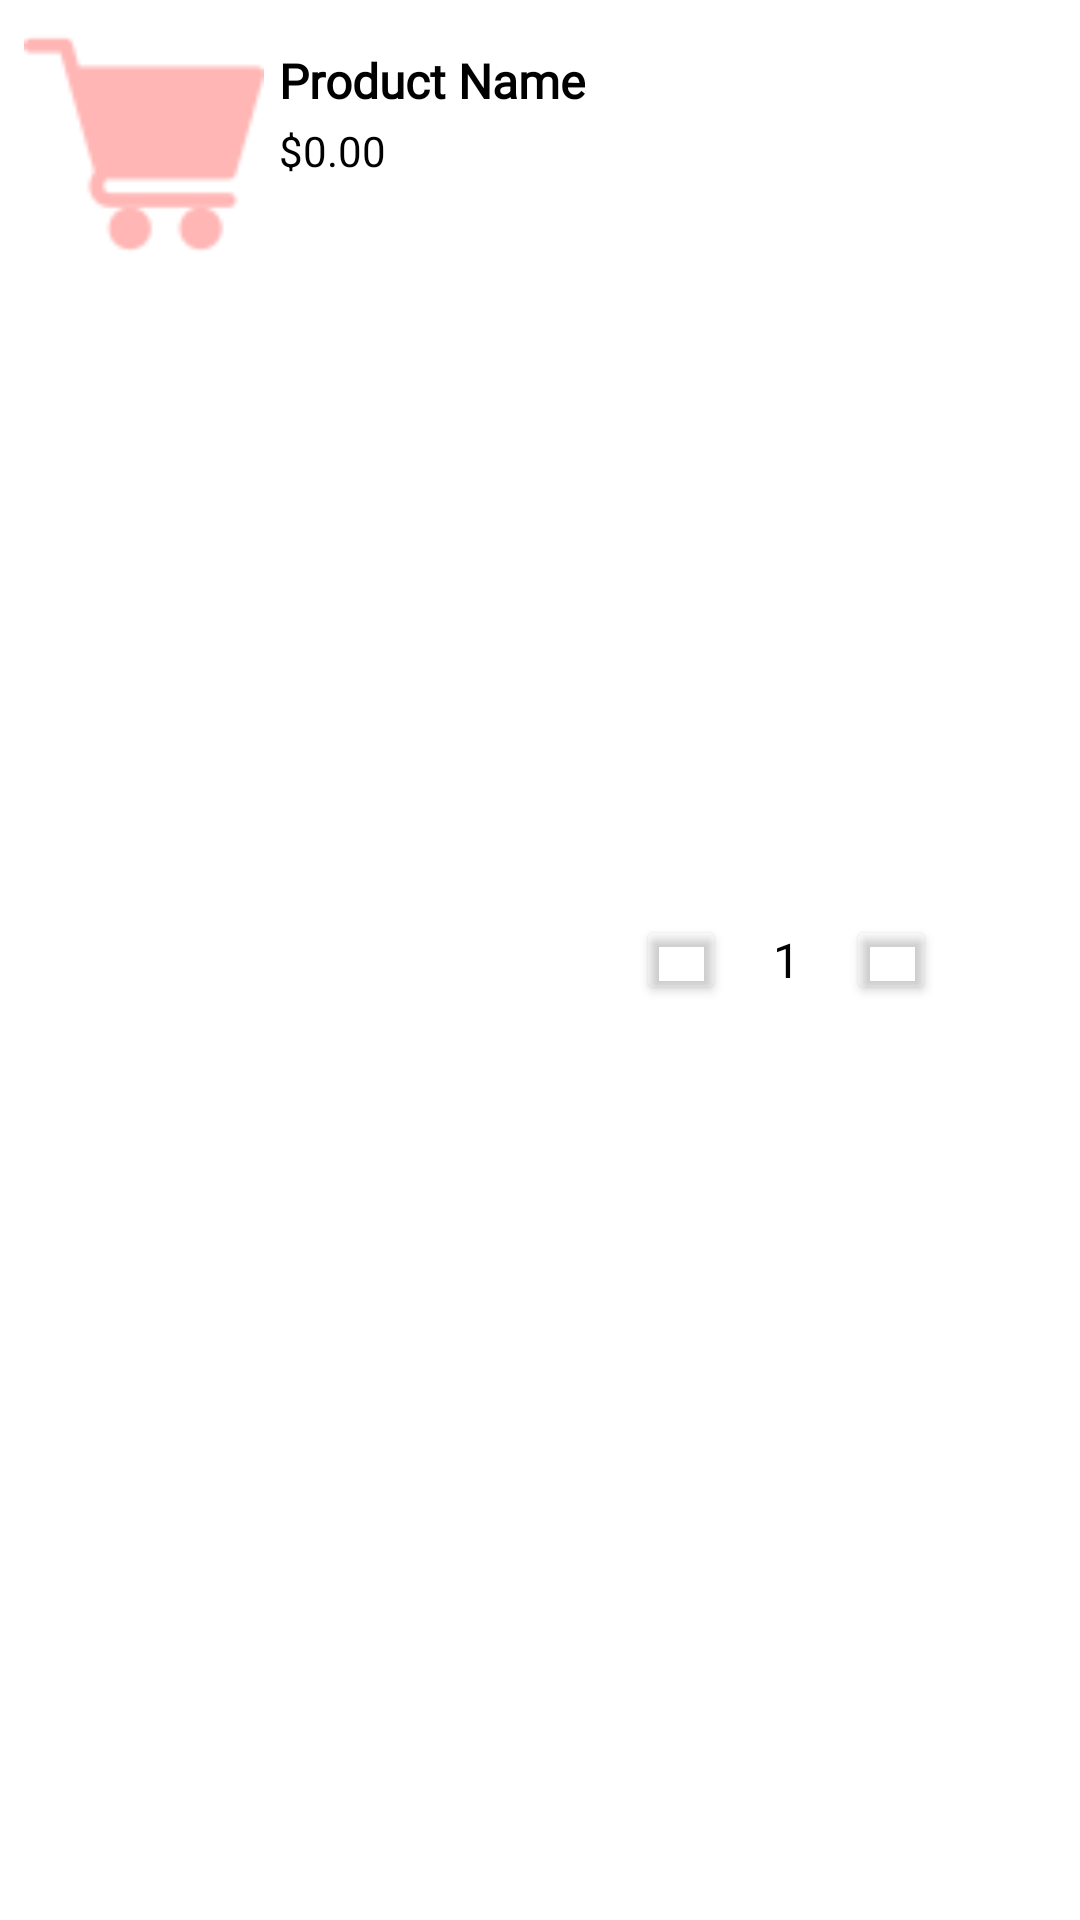

Icons on this 1080*1920 Android screen, each with its box as (x1, y1, x2, y2):
cart: (24, 38, 264, 250)
